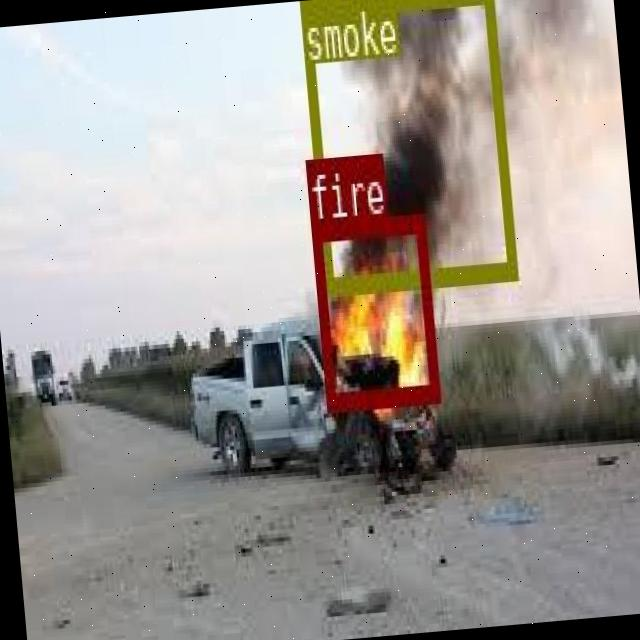fire: (310, 210, 438, 406)
smoke: (297, 0, 514, 290)
